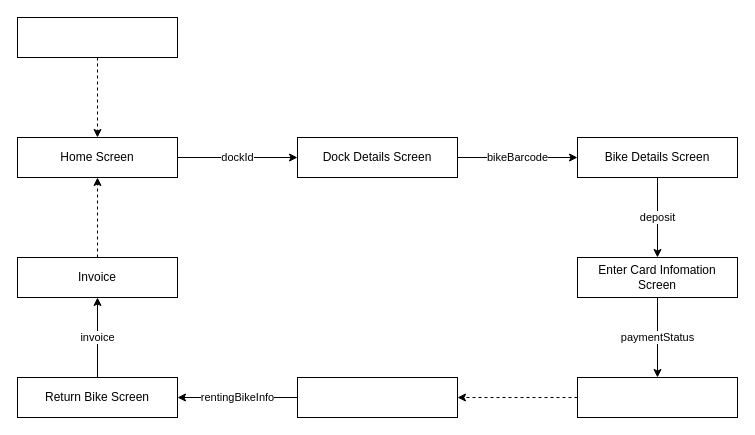
Some shapes in this 755 by 435 pixel diagram are drawn without their labels. Each missing label, with the centre of its shape:
Payment Status Notification Screen: (x=657, y=397)
Renting Bike Information Screen: (x=377, y=397)
Splash Screen: (x=97, y=37)
